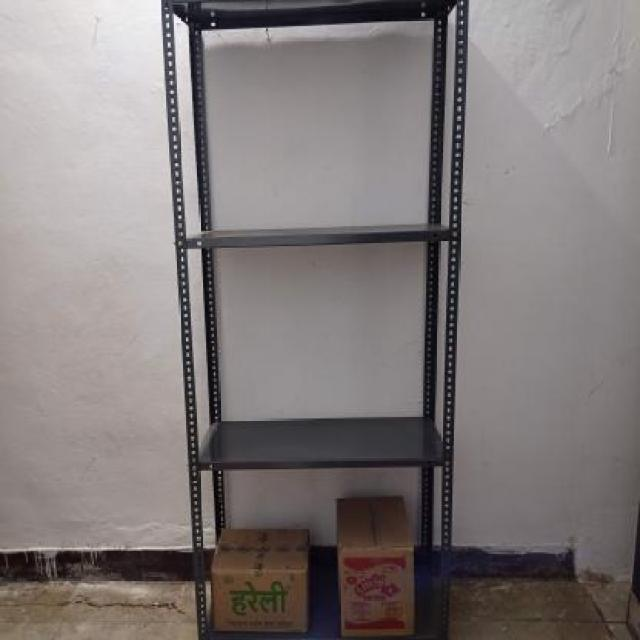box: (208, 570, 310, 636), (338, 550, 412, 638)
